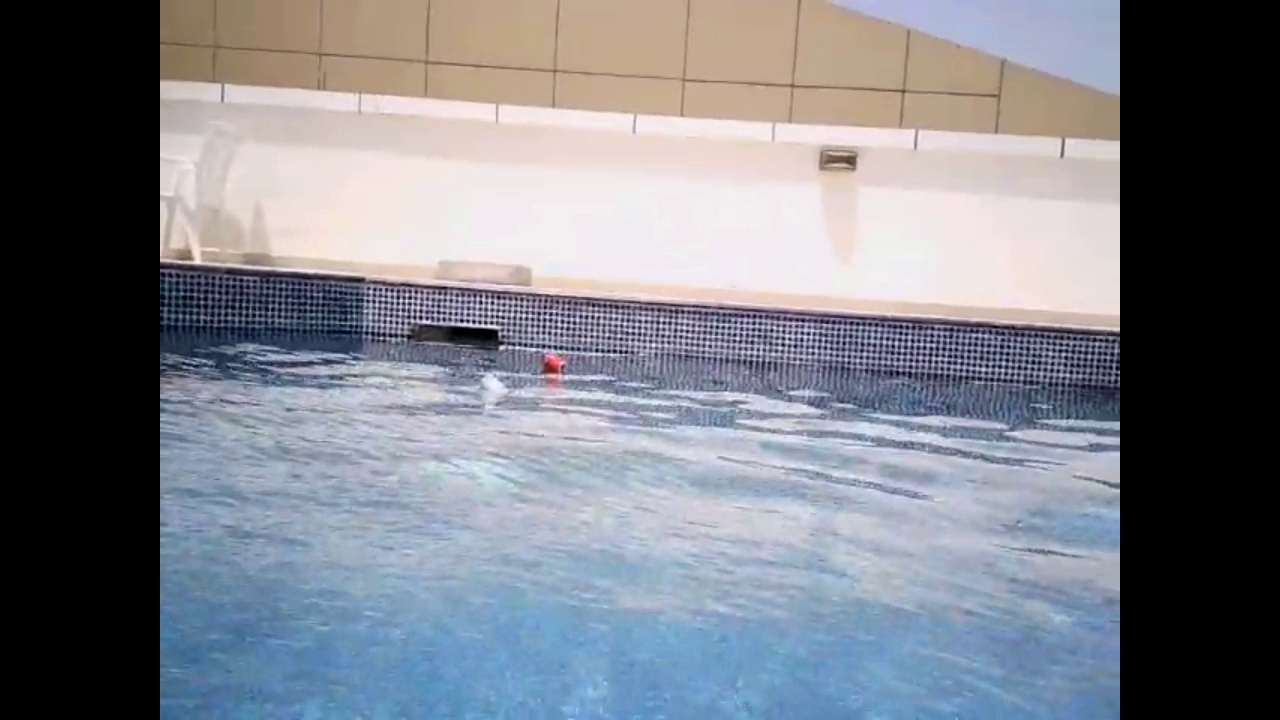debris: (474, 367, 514, 407), (539, 352, 571, 378)
